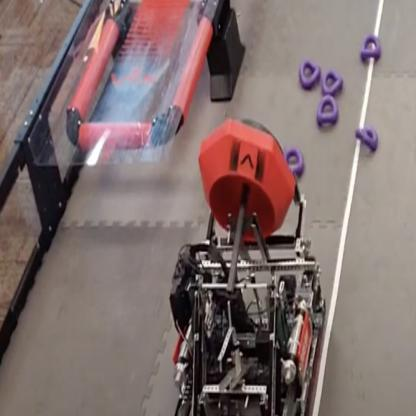ring: (298, 58, 320, 89), (316, 93, 337, 125), (283, 147, 304, 177), (355, 126, 378, 152), (321, 70, 342, 94), (360, 34, 380, 59)
